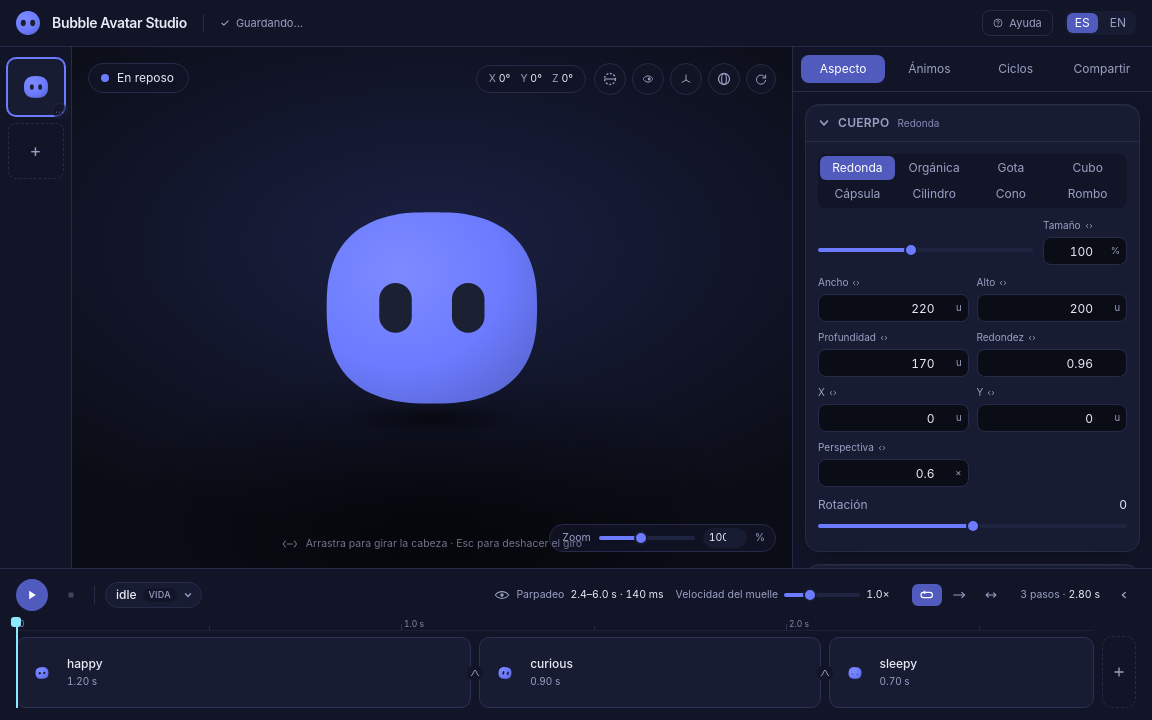
Scenario: StudioView › adds a bubble from the rail
Step 1. Click the button named "Nueva burbuja" → (36, 151), box left=8, top=123, right=64, bottom=179
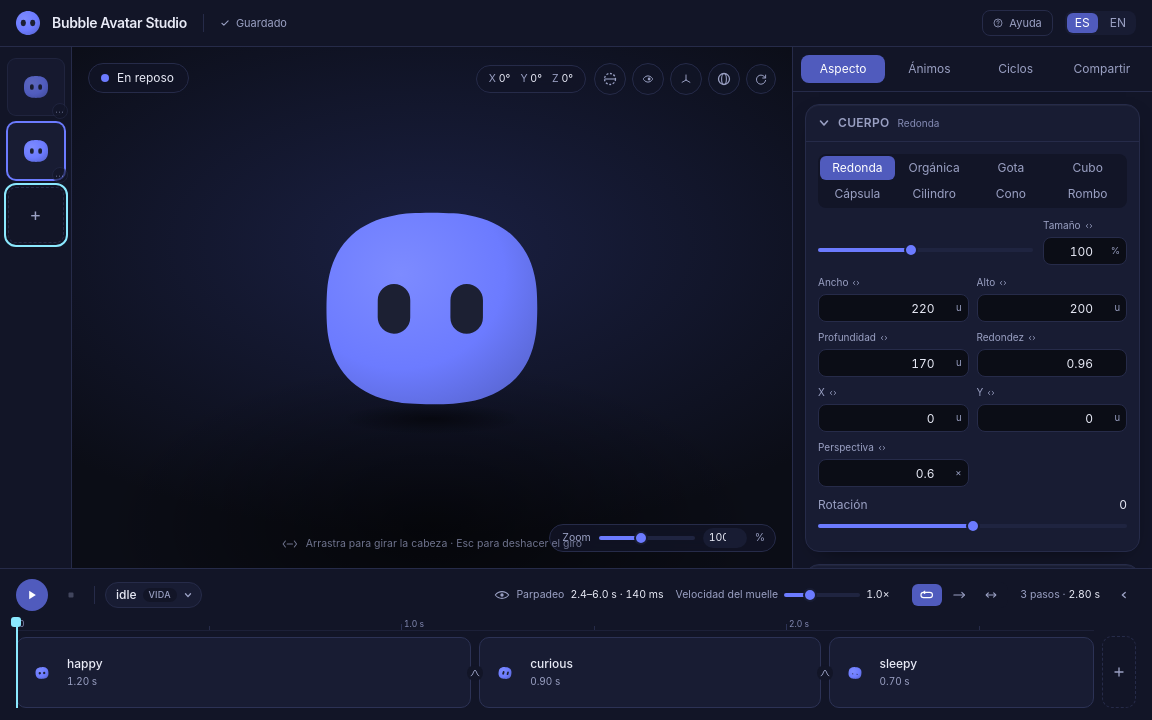
Expected: the number of buttons named "Bubble" is 2, left=8, top=59, right=64, bottom=115; left=8, top=123, right=64, bottom=179
